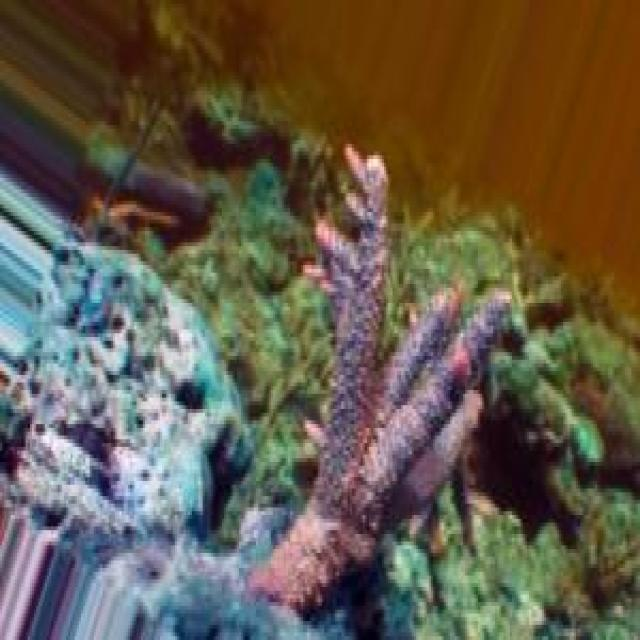Healthy: (253, 296, 509, 640), (16, 247, 253, 569)
